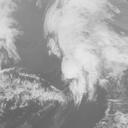cyclone: (60, 48, 101, 95)
